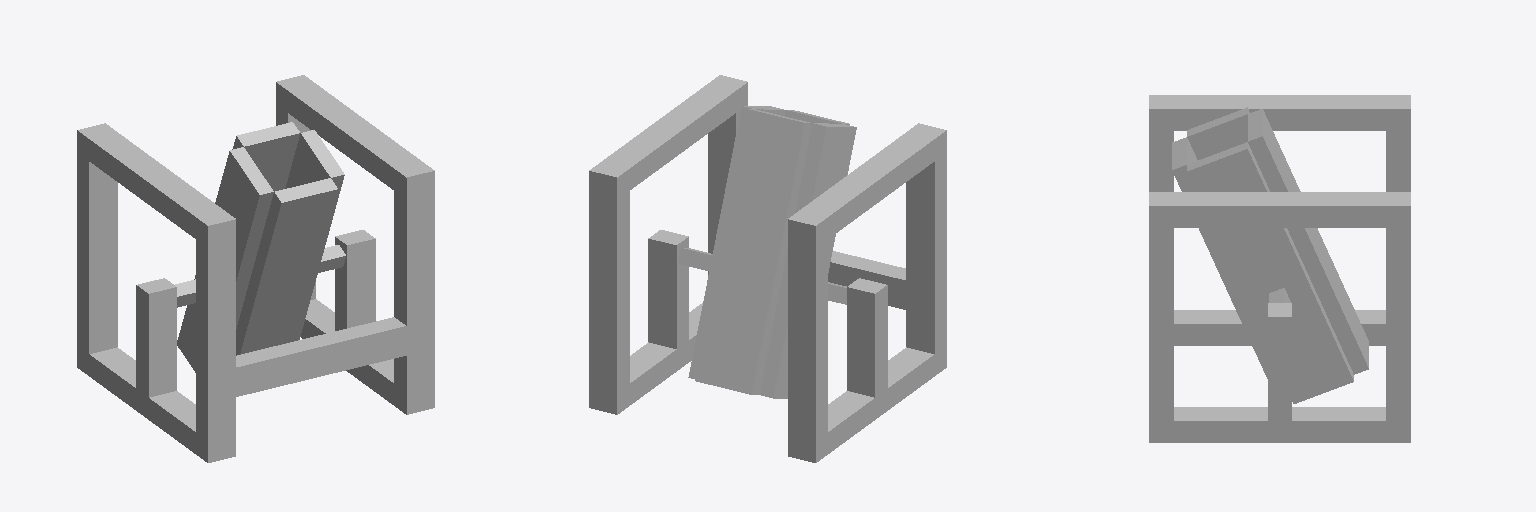
Rendered from firework_mortar(22.5).obj.
3 views of the same model, side by side, from view 1: azimuth 30°, elevation 25°; view 2: azimuth 150°, elevation 25°; view 3: azimuth 270°, elevation 25° (orthographic).
Visible parts, largest first — view 1: cube; view 2: cube; view 3: cube.
Part boxes in pixels (x1,y1,x2,y2): cube: (77,75,434,462); cube: (589,75,946,462); cube: (1149,95,1410,442).
Bounding box in the file's own units: 1 × 1.13 × 1.